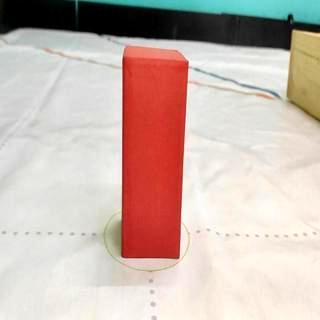redbox: (122, 45, 188, 258)
